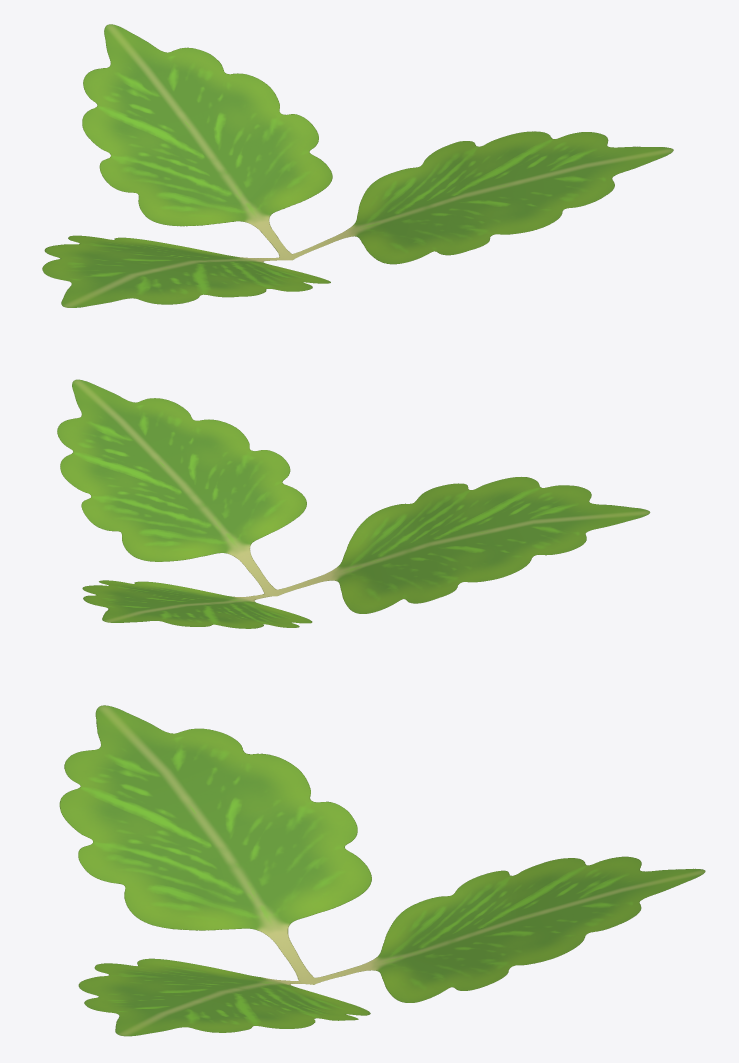
File: SM_Sprout_Two_LODS 1.fbx
3 views of the same model, one above another, from view 1: azimuth 30°, elevation 25°; view 2: azimuth 150°, elevation 25°; view 3: azimuth 270°, elevation 25° (orthographic). The views are drawn at different scales.
Visible parts, largest first — view 1: polySurface11_LOD0; view 2: polySurface11_LOD0; view 3: polySurface11_LOD0.
Part boxes in pixels (x1=…): polySurface11_LOD0: x1=42, y1=24, x2=673, y2=307; polySurface11_LOD0: x1=57, y1=379, x2=650, y2=628; polySurface11_LOD0: x1=59, y1=705, x2=705, y2=1036.
Size of what is drawn, in the model's own units: 80.28 by 11.28 by 62.48.
